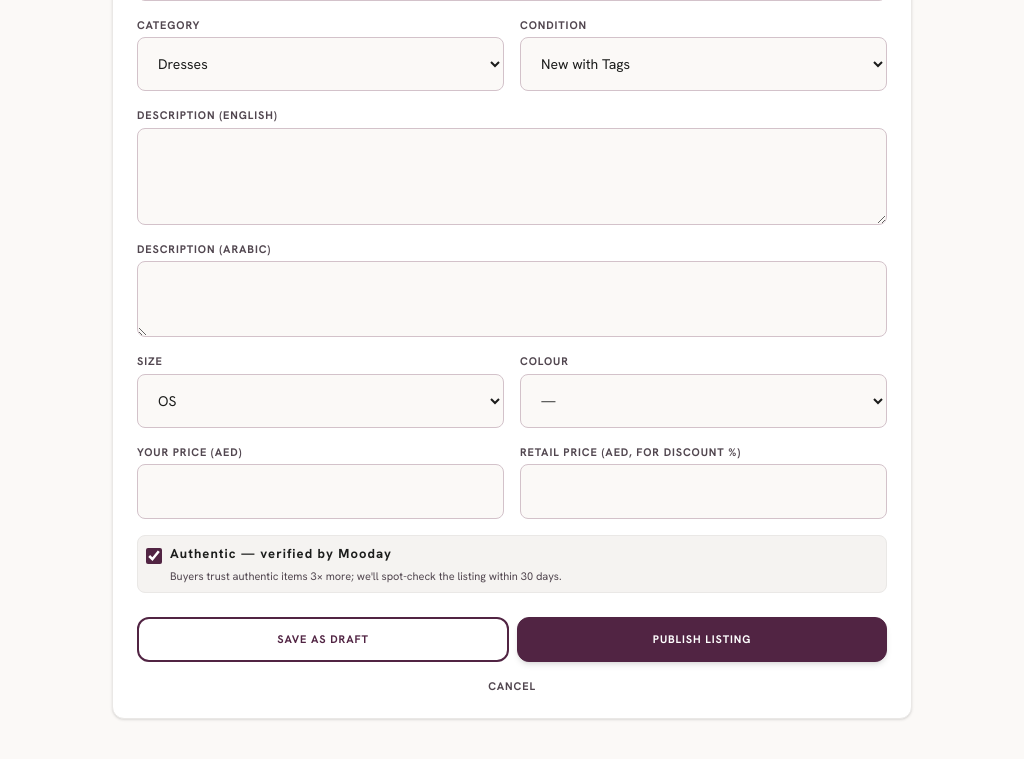
Test: SellItemView (D-19) › shows inline validation instead of opening a browser alert
The width and height of the screenshot is (1024, 759).
(page scrolled)
What coordinates should you click on to do the following:
click the button "Publish listing"
I would click on:
 (702, 639)
Its box is [517, 617, 887, 662].
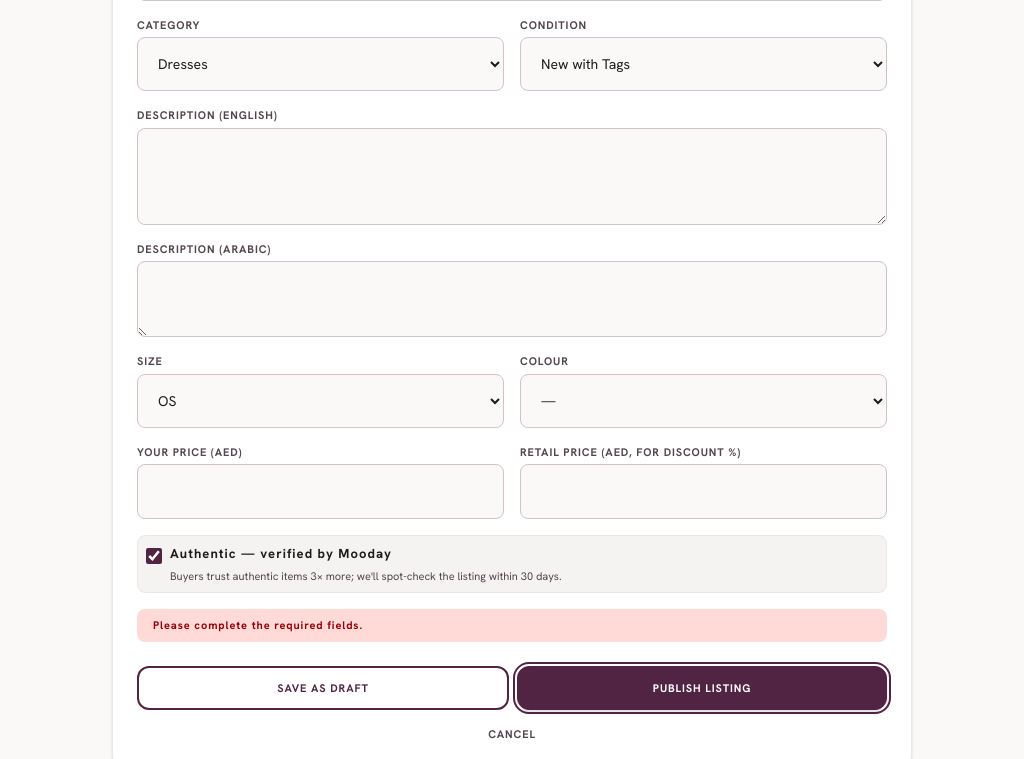
expect the message shows "complete the required fields": met, box [153, 618, 363, 632]
